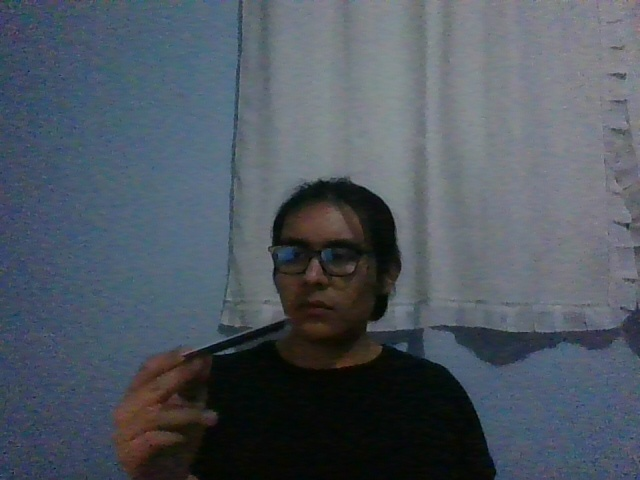tarjeta: (181, 318, 286, 358)
